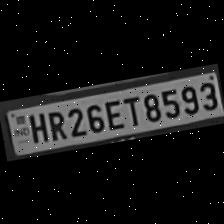2: (62, 103, 86, 138)
3: (194, 77, 218, 112)
5: (156, 84, 180, 119)
6: (82, 100, 106, 134)
8: (137, 90, 162, 124)
9: (176, 81, 200, 116)
E: (102, 96, 126, 132)
H: (24, 109, 48, 144)
R: (42, 106, 66, 142)
T: (120, 92, 142, 126)
